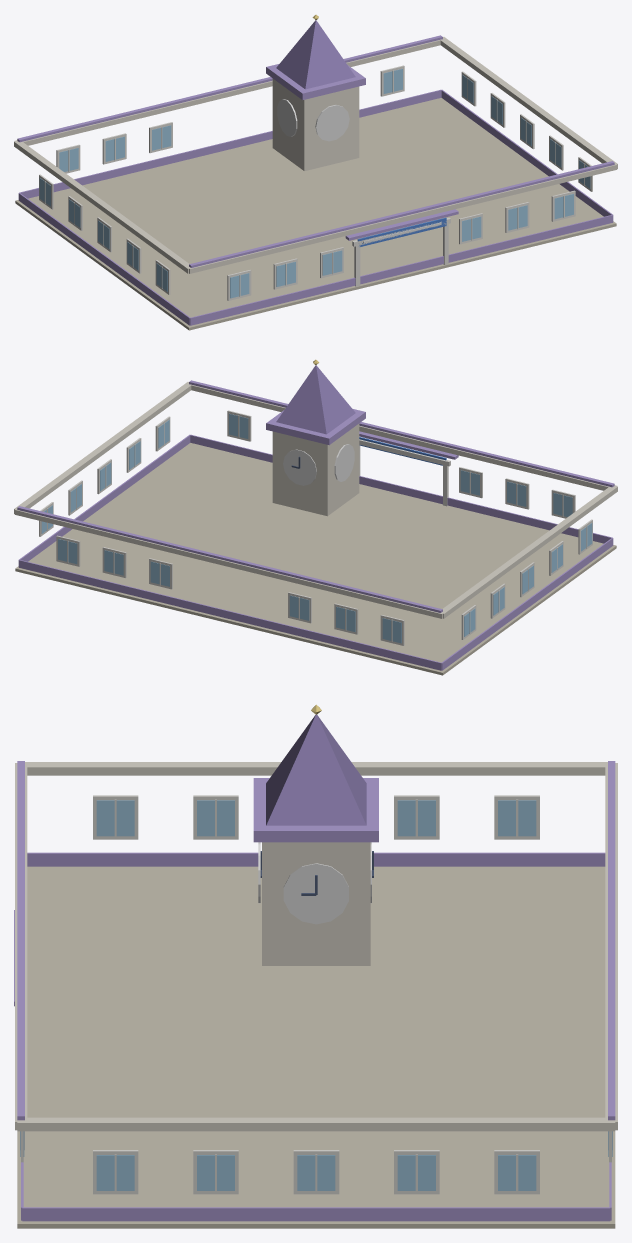
File: facade_library_hall.glb
3 renders of one model, top to bottom at view 1: azimuth 30°, elevation 25°; view 2: azimuth 150°, elevation 25°; view 3: azimuth 270°, elevation 25°, orthographic. The views are drawn at different scales.
Bounding box in the file's own units: 20.42 × 9.09 × 14.44.
